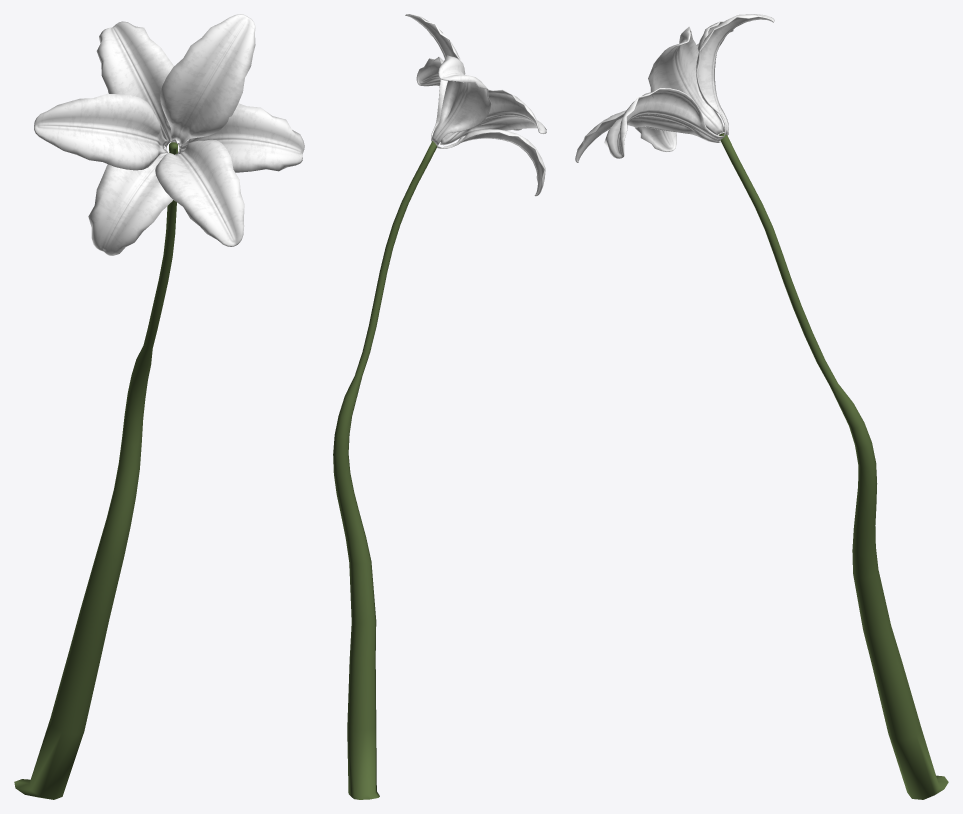
File: rose2curv1.glb
3 views of the same model, side by side, from view 1: azimuth 30°, elevation 25°; view 2: azimuth 150°, elevation 25°; view 3: azimuth 270°, elevation 25° (orthographic). The views are drawn at different scales.
Visible parts, largest first — view 1: flower_set_01_lilies.001, base; view 2: base, flower_set_01_lilies.001; view 3: base, flower_set_01_lilies.001.
Boxes of the visible parts, left/top/right/bottom form: flower_set_01_lilies.001: left=34, top=14, right=304, bottom=255; base: left=14, top=142, right=177, bottom=799; base: left=333, top=141, right=437, bottom=799; flower_set_01_lilies.001: left=405, top=14, right=546, bottom=196; base: left=719, top=133, right=948, bottom=799; flower_set_01_lilies.001: left=575, top=14, right=774, bottom=162.
Size of the model in its own units: 36.81 by 141 by 60.5.
Materials: 2 (1 with a texture image).
